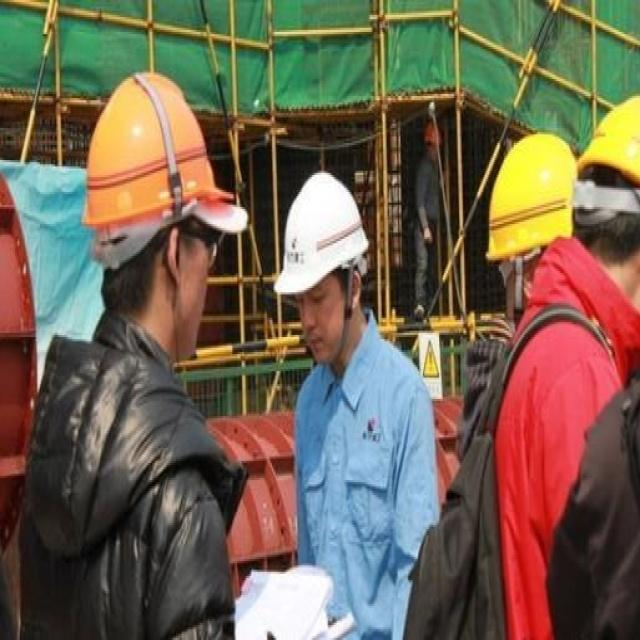helmet: (84, 88, 229, 480), (275, 223, 374, 487), (488, 178, 587, 422), (574, 103, 640, 452), (423, 160, 442, 215)
